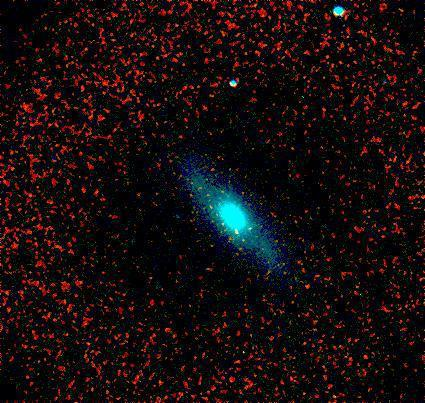star: (237, 212, 267, 242)
